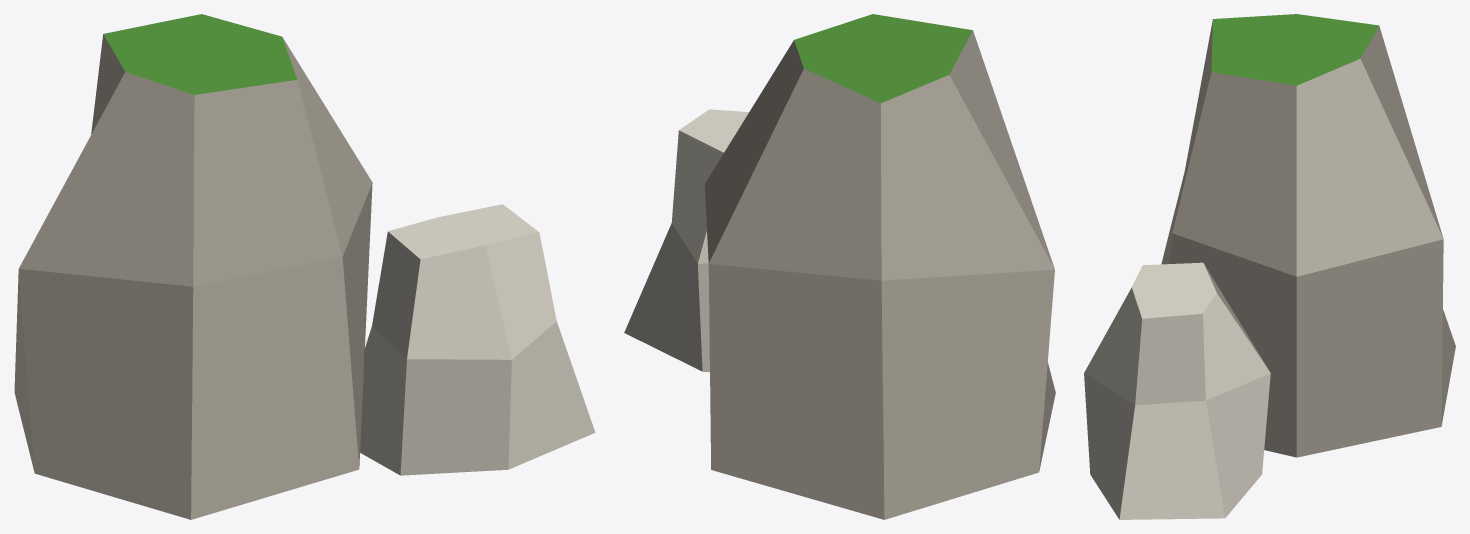
The model's file is Stone6.fbx.
3 renders of one model, left to right at view 1: azimuth 30°, elevation 25°; view 2: azimuth 150°, elevation 25°; view 3: azimuth 270°, elevation 25°, orthographic. The views are drawn at different scales.
Parts seen in each view (by area): view 1: Stone6; view 2: Stone6; view 3: Stone6.
Boxes of the visible parts, left/top/right/bottom form: Stone6: left=14, top=14, right=595, bottom=519; Stone6: left=624, top=14, right=1055, bottom=519; Stone6: left=1084, top=14, right=1455, bottom=519.
Bounding box in the file's own units: 0.6861 × 0.5275 × 0.5121.
